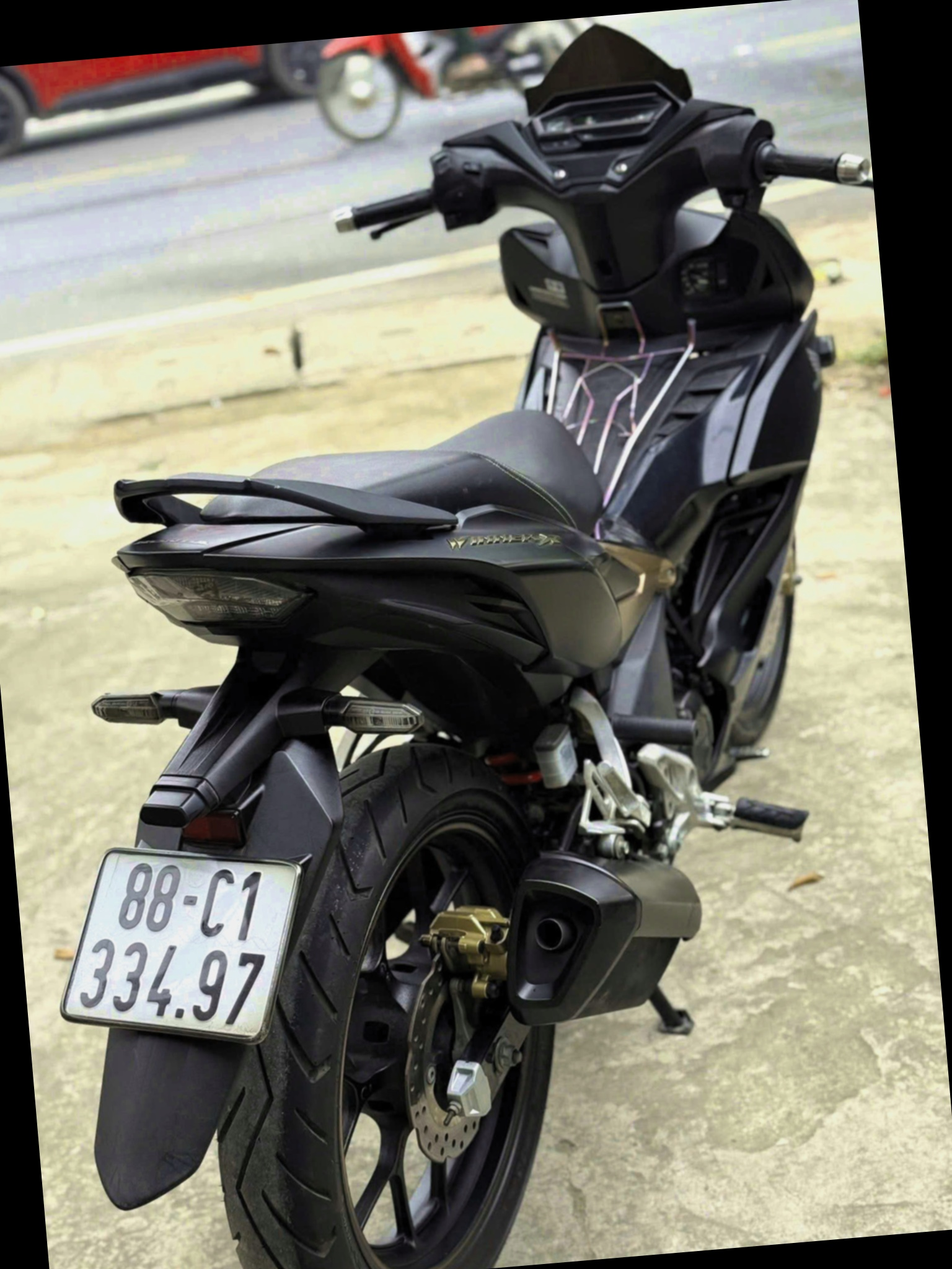Bien-so: (52, 801, 334, 1020)
